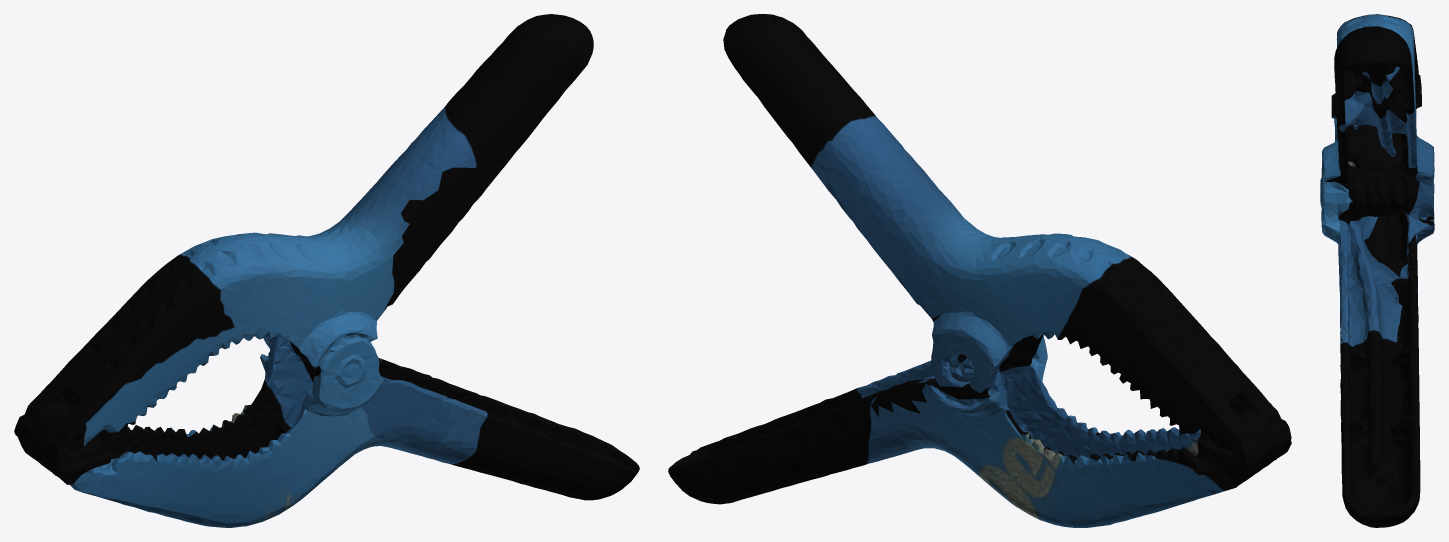
The picture shows the model from 3 angles, left to right: view 1: azimuth 30°, elevation 25°; view 2: azimuth 150°, elevation 25°; view 3: azimuth 270°, elevation 25°; orthographic projection. The views are drawn at different scales.
Visible parts, largest first — view 1: node; view 2: node; view 3: node.
Part boxes in pixels (x1,y1,x2,y2): node: [14, 14, 639, 527]; node: [668, 14, 1291, 527]; node: [1320, 14, 1434, 527].
Bounding box in the file's own units: 0.21 × 0.1643 × 0.0363.
